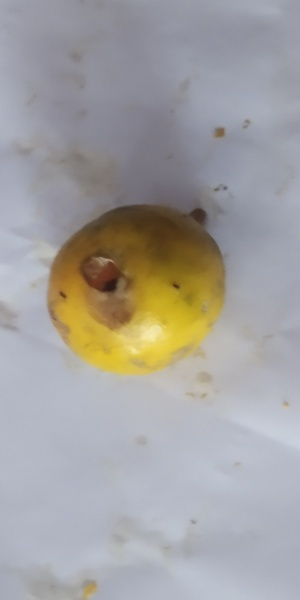BAD: (44, 205, 224, 375)
